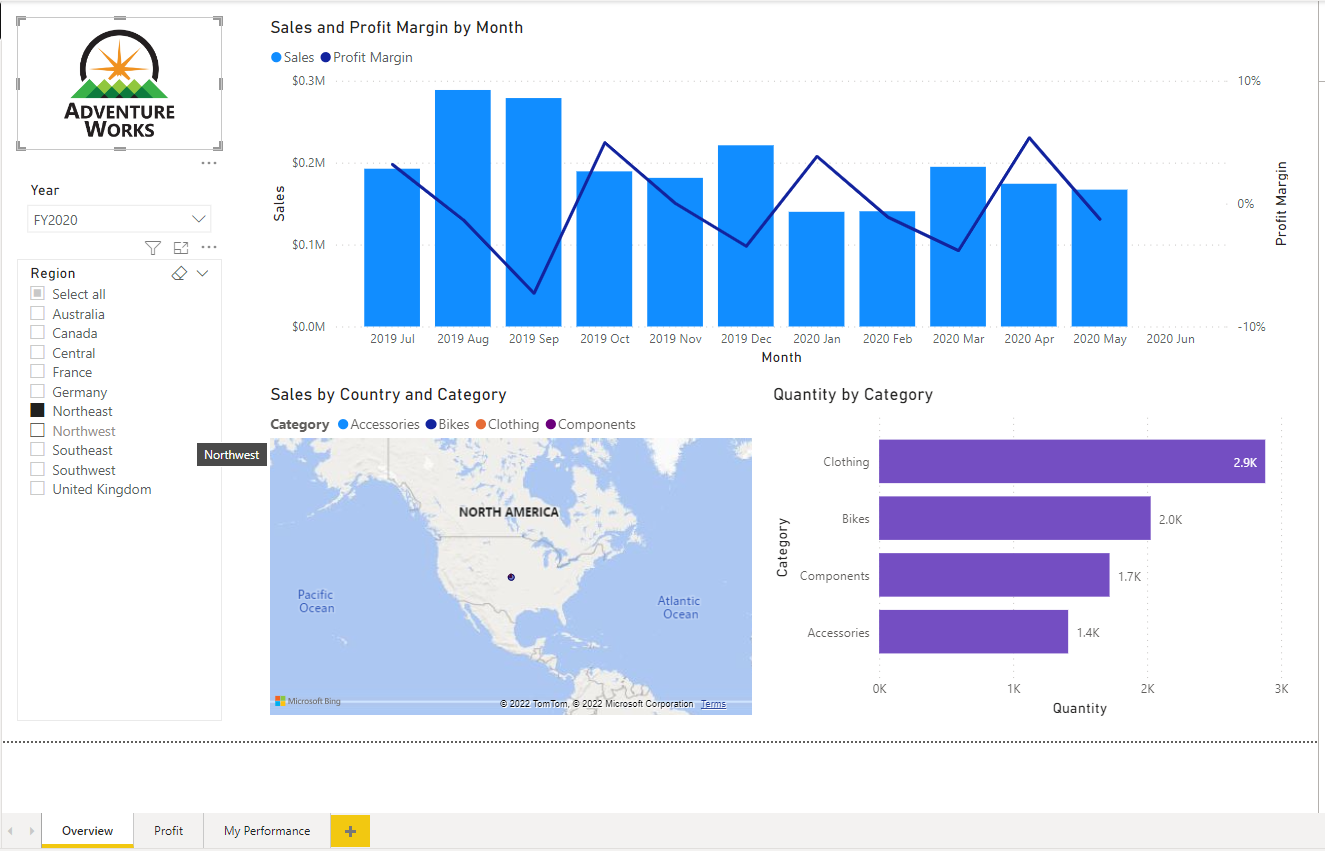

This screenshot's page, from the dashboard's own definition file:
{"tool":"powerbi","page":{"name":"Overview","canvas":[1280,720],"ordinal":0},"visuals":[{"type":"image","box":[14.6,15.6,199.4,129.4],"z":0},{"type":"slicer","fields":{"Values":["Date.Year"]},"box":[14.6,170.2,199.4,70],"z":1000},{"type":"slicer","fields":{"Values":["Region.Region"]},"box":[14.6,250.9,199.4,449.4],"z":2000},{"type":"lineStackedColumnComboChart","fields":{"Category":["Date.Month"],"Y":["Sum(Sales.Sales)"],"Y2":["Sales.Profit Margin"]},"box":[255.8,15.6,999.9,344.3],"z":3000},{"type":"map","fields":{"Category":["Region.Country"],"Series":["Product.Category"],"Size":["Sum(Sales.Sales)"]},"box":[255.8,372.5,478.5,327.8],"z":4000},{"type":"barChart","fields":{"Category":["Product.Category"],"Y":["Sum(Sales.Quantity)"]},"box":[745,372.5,510.6,327.8],"z":5000}]}

Visuals, with their boxes on the page's 1280x720 design canvas (x1, y1, x2, y2). These are canvas units, not pixel positions in the 1325x851 screenshot, which may show the page scaled, cropped or inside an application window:
image: 15:16:214:145
slicer - Date.Year: 15:170:214:240
slicer - Region.Region: 15:251:214:700
lineStackedColumnComboChart - Date.Month x Sum(Sales.Sales): 256:16:1256:360
map - Region.Country x Product.Category: 256:372:734:700
barChart - Product.Category x Sum(Sales.Quantity): 745:372:1256:700
